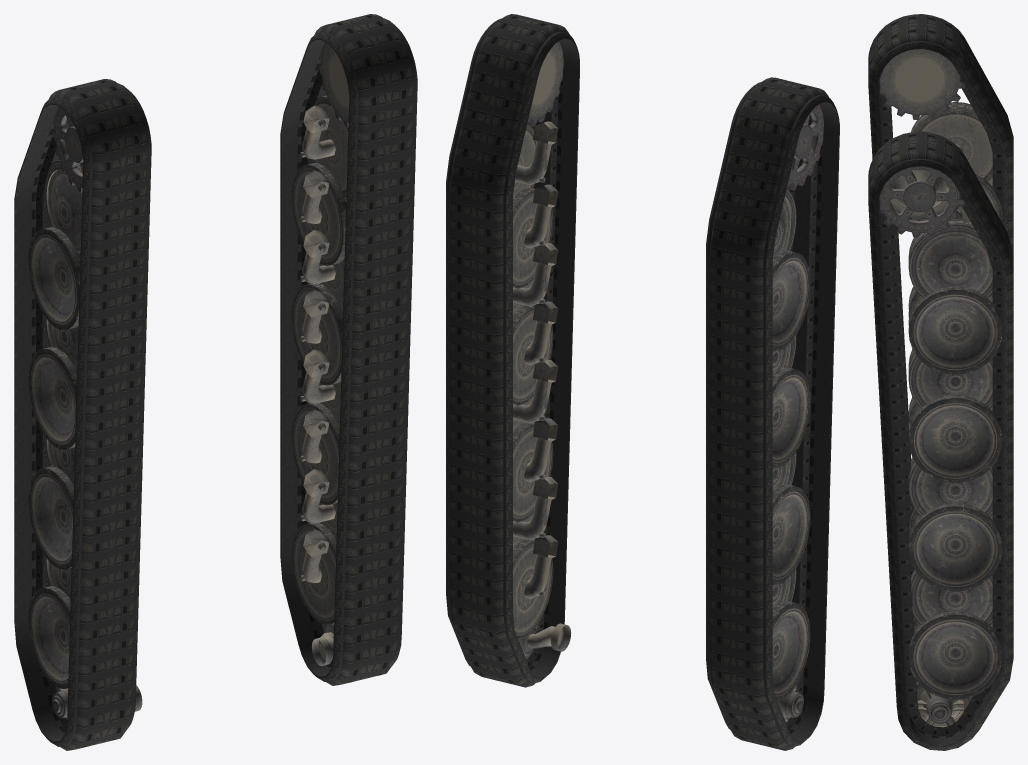
The model's file is Chassis.glb.
3 views of the same model, side by side, from view 1: azimuth 30°, elevation 25°; view 2: azimuth 150°, elevation 25°; view 3: azimuth 270°, elevation 25° (orthographic). The views are drawn at different scales.
Visible parts, largest first — view 1: set_1_group_0, set_0_group_0, set_3_group_0, set_2_group_0; view 2: set_1_group_0, set_0_group_0, set_3_group_0, set_2_group_0; view 3: set_3_group_0, set_0_group_0, set_1_group_0, set_2_group_0.
Boxes of the visible parts, <box> form: set_1_group_0: <box>14,79,151,750</box>; set_0_group_0: <box>280,14,417,685</box>; set_3_group_0: <box>291,41,349,665</box>; set_2_group_0: <box>28,106,142,719</box>; set_1_group_0: <box>706,77,839,750</box>; set_0_group_0: <box>446,14,579,687</box>; set_3_group_0: <box>513,41,571,659</box>; set_2_group_0: <box>772,105,823,722</box>; set_3_group_0: <box>879,166,1002,727</box>; set_0_group_0: <box>868,131,1013,750</box>; set_1_group_0: <box>868,14,1013,618</box>; set_2_group_0: <box>879,49,1002,538</box>.
Size of the model in its own units: 3.27 by 6.2 by 1.36.
4 materials, 4 textured.
